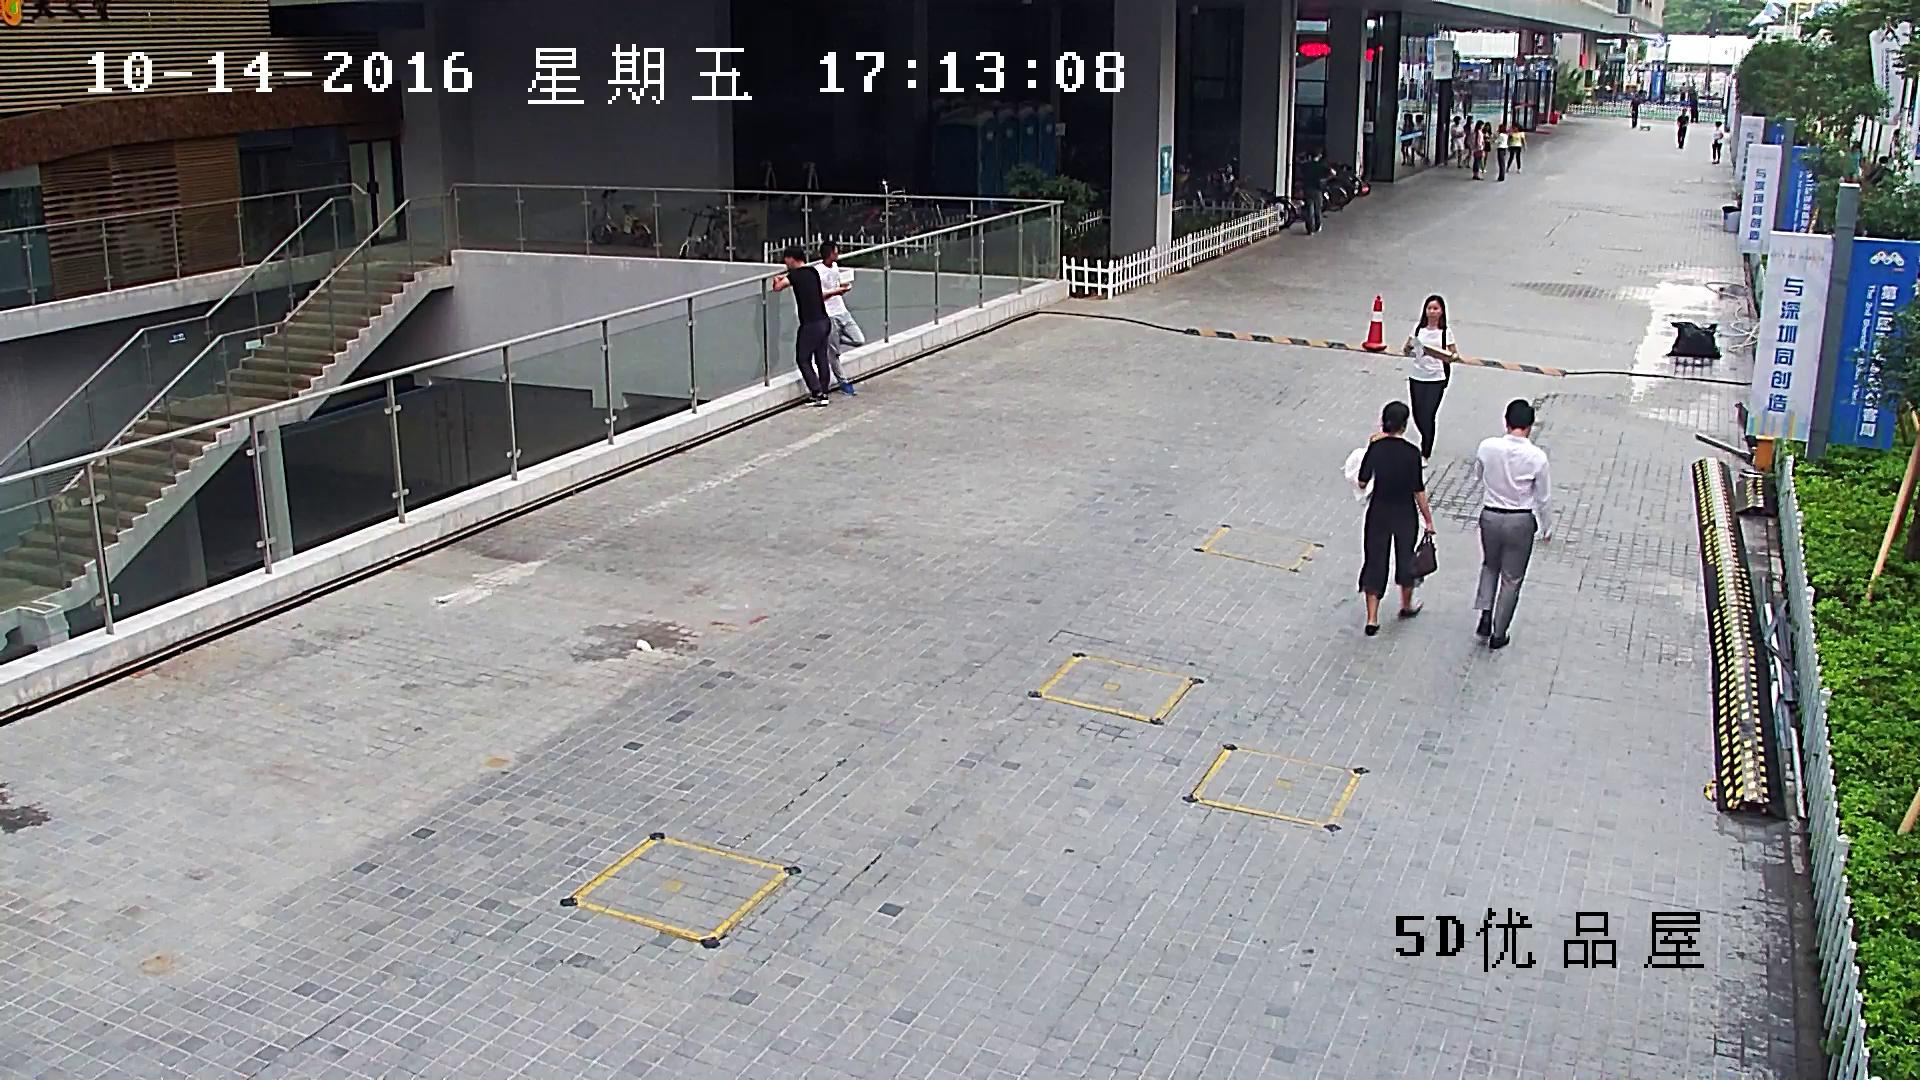person: (1338, 399, 1438, 637), (1471, 397, 1555, 650), (1401, 294, 1460, 468), (771, 245, 831, 407), (811, 241, 865, 396), (1299, 149, 1330, 236), (1505, 122, 1527, 173), (1408, 113, 1429, 166), (1493, 123, 1509, 183), (1469, 120, 1485, 180), (1397, 113, 1414, 166), (1446, 115, 1463, 169), (1462, 115, 1474, 169), (1480, 121, 1492, 173), (1710, 119, 1723, 164), (1676, 107, 1689, 149), (1629, 90, 1641, 128), (1678, 82, 1686, 107)
